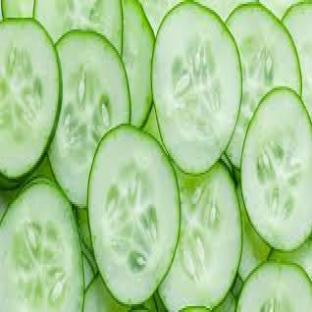Cucumber: (89, 126, 180, 304), (153, 2, 241, 174), (50, 32, 130, 207), (159, 163, 242, 311), (227, 4, 301, 168), (242, 89, 311, 251), (0, 179, 83, 311), (0, 20, 61, 186), (237, 263, 311, 311), (0, 157, 53, 218), (283, 2, 311, 115), (238, 187, 270, 280), (270, 238, 311, 278), (84, 275, 128, 311), (144, 106, 163, 147), (75, 208, 93, 251), (27, 156, 54, 182), (81, 242, 98, 274), (0, 191, 17, 221), (213, 293, 236, 311), (83, 254, 94, 290), (130, 297, 157, 311), (220, 154, 234, 176), (231, 275, 243, 300), (155, 291, 166, 311), (181, 307, 209, 311)
